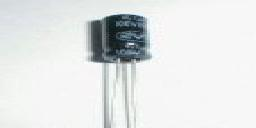Electrolytic Capacitor: (98, 13, 150, 128)
